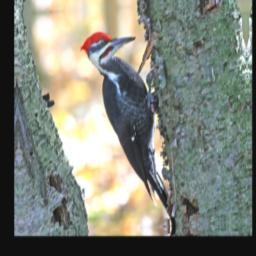Woodpecker: (79, 26, 174, 230)
